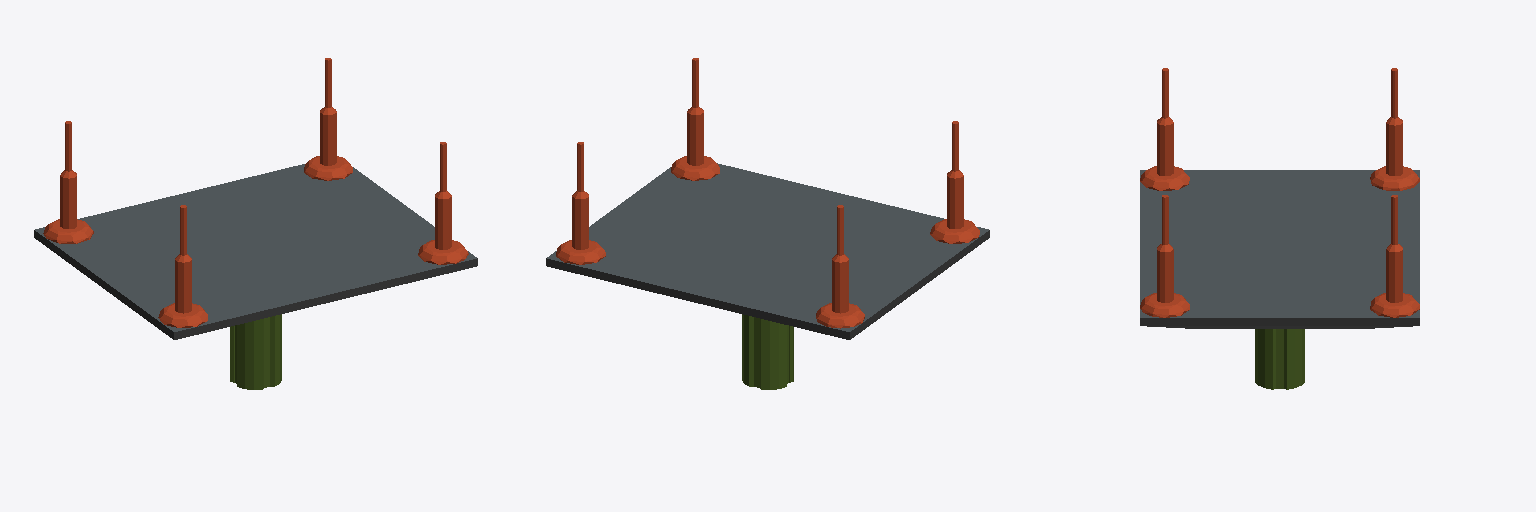
The model's file is FloatingPlatform.obj.
The picture shows the model from 3 angles: view 1: azimuth 30°, elevation 25°; view 2: azimuth 150°, elevation 25°; view 3: azimuth 270°, elevation 25°; orthographic projection.
Visible parts, largest first — view 1: Solid1; view 2: Solid1; view 3: Solid1.
Boxes of the visible parts, <box> form: Solid1: <box>34,58,477,389</box>; Solid1: <box>546,58,989,389</box>; Solid1: <box>1140,68,1419,389</box>.
Size of the model in its own units: 10 by 7.75 by 8.